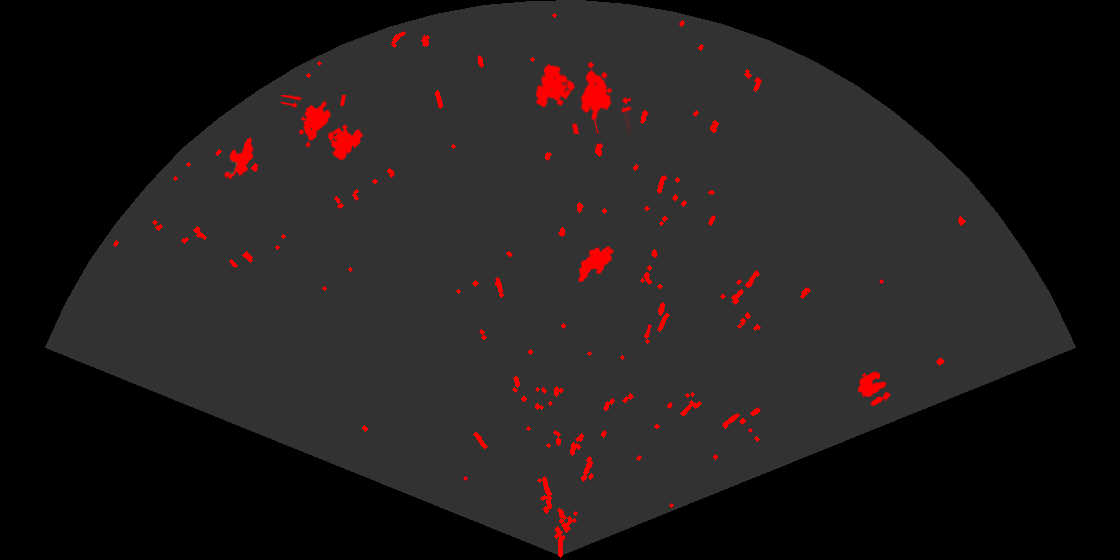AUV: (577, 245, 615, 284), (223, 136, 255, 181)
ball: (856, 370, 892, 408)
cage: (534, 60, 631, 134), (281, 95, 365, 162)
